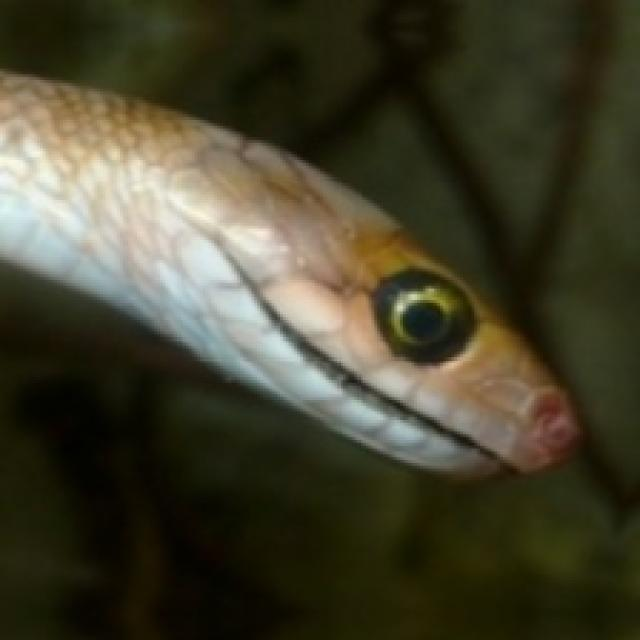reddish rat snake: (0, 71, 577, 471)
